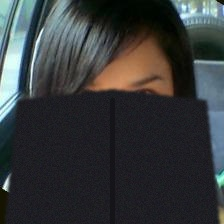Cadar_Niqab: (5, 0, 219, 224)
